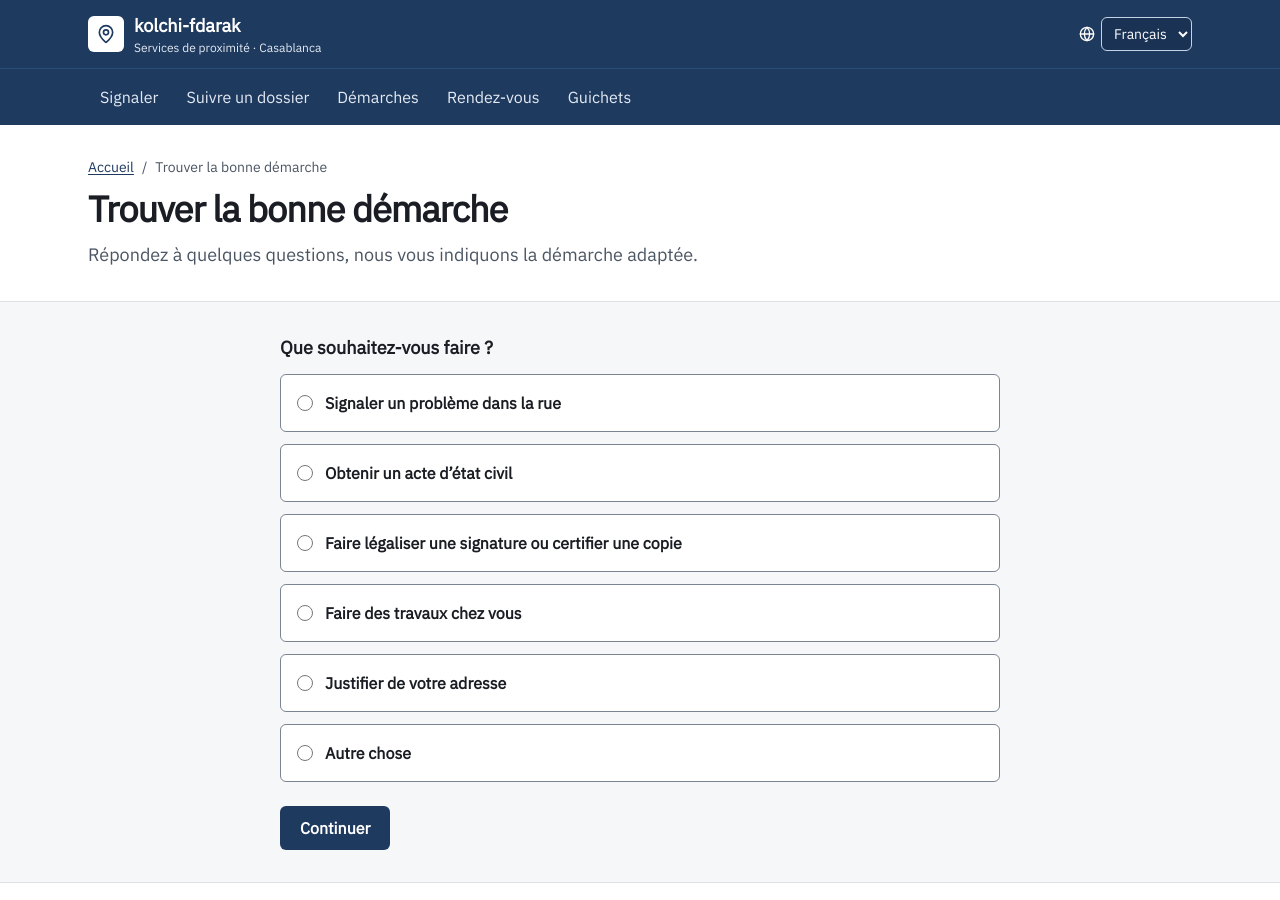
Test case: orientation › Retour revient à la question précédente, Recommencer à la première
The width and height of the screenshot is (1280, 900).
Click the radio button labelled "Faire légaliser une signature ou certifier une copie": {"x": 305, "y": 543} [297,535,313,551]
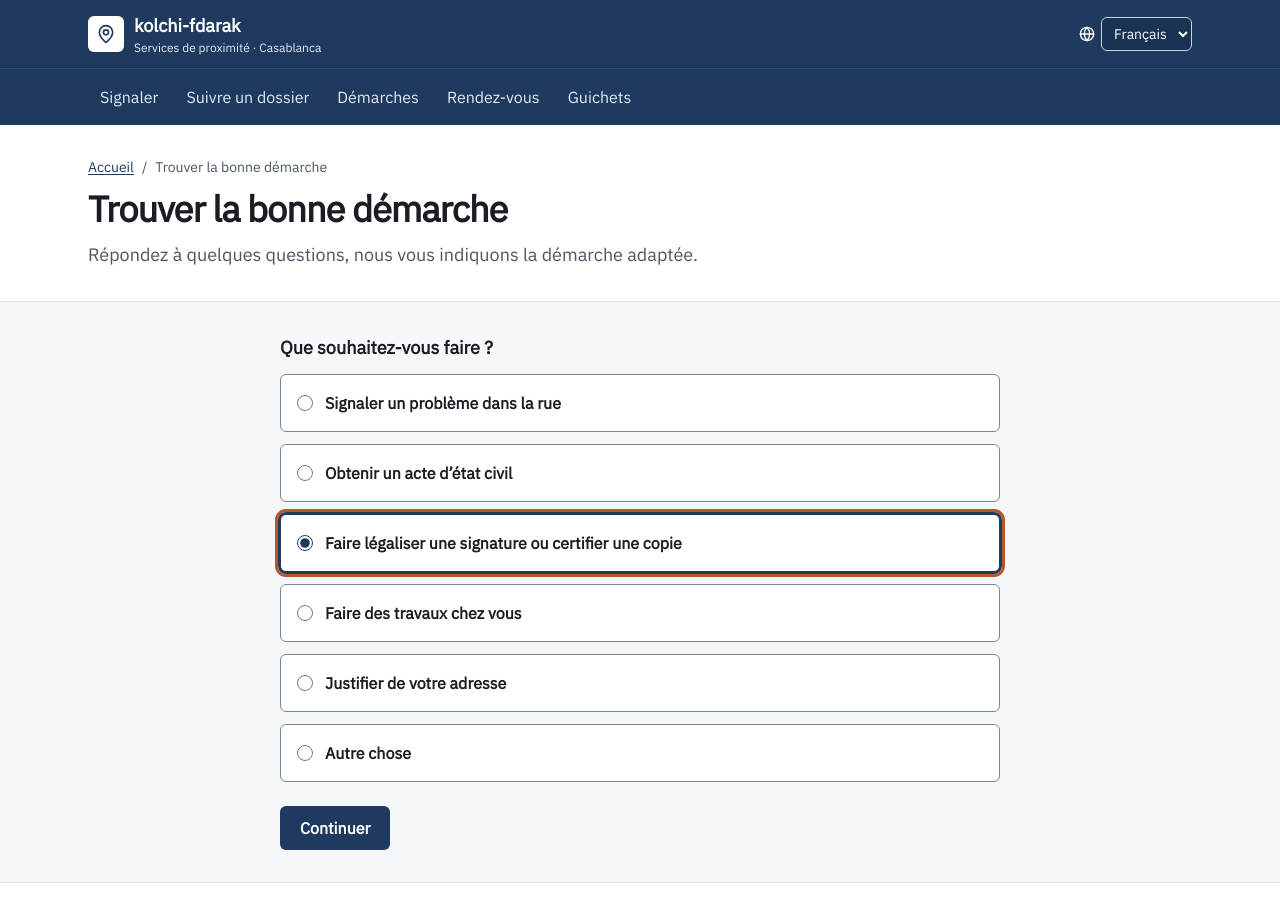
Click the button "Continuer": {"x": 335, "y": 828} [280,806,390,850]
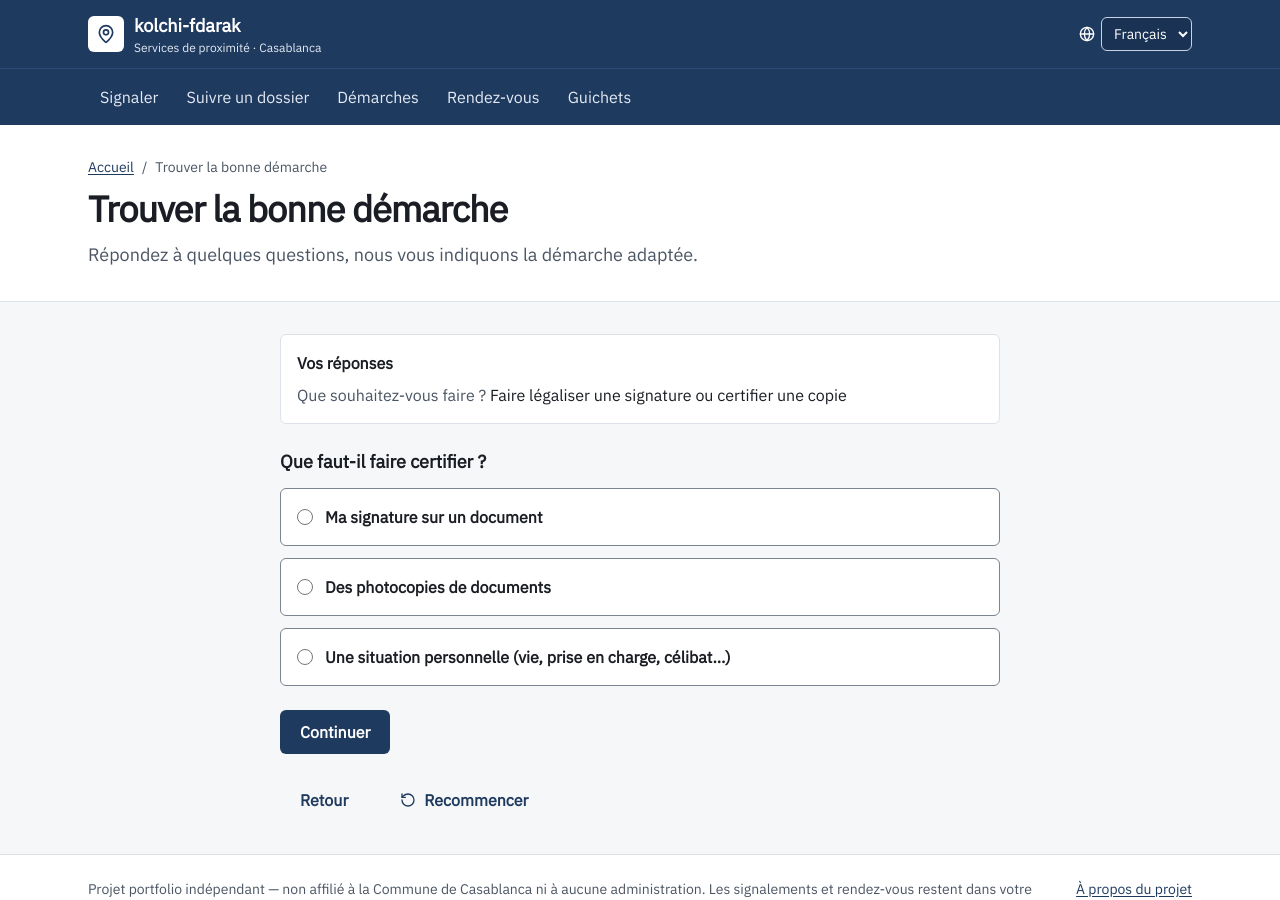
Click the radio button labelled "Des photocopies de documents": {"x": 305, "y": 587} [297,579,313,595]
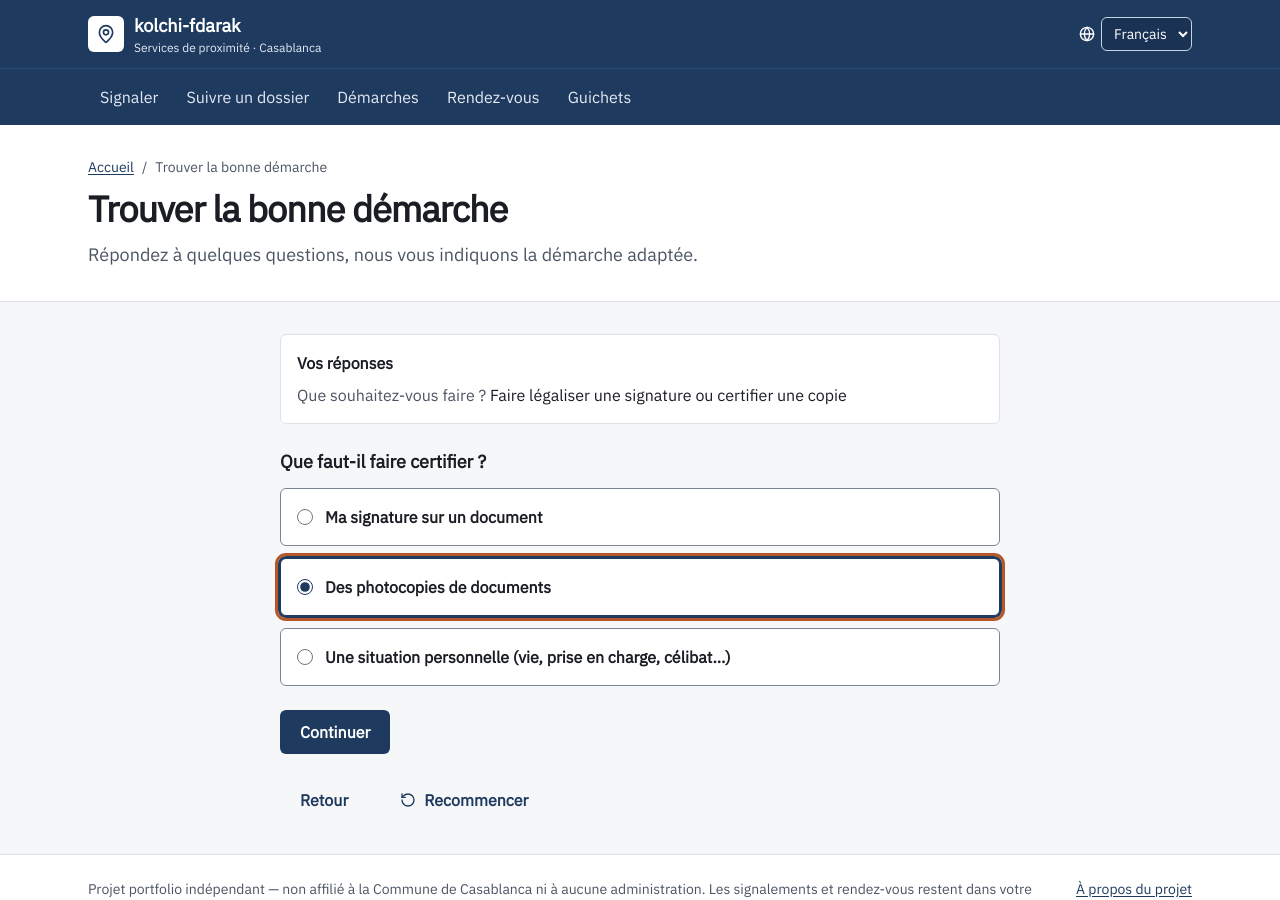
Click the button "Continuer": {"x": 335, "y": 732} [280,710,390,754]
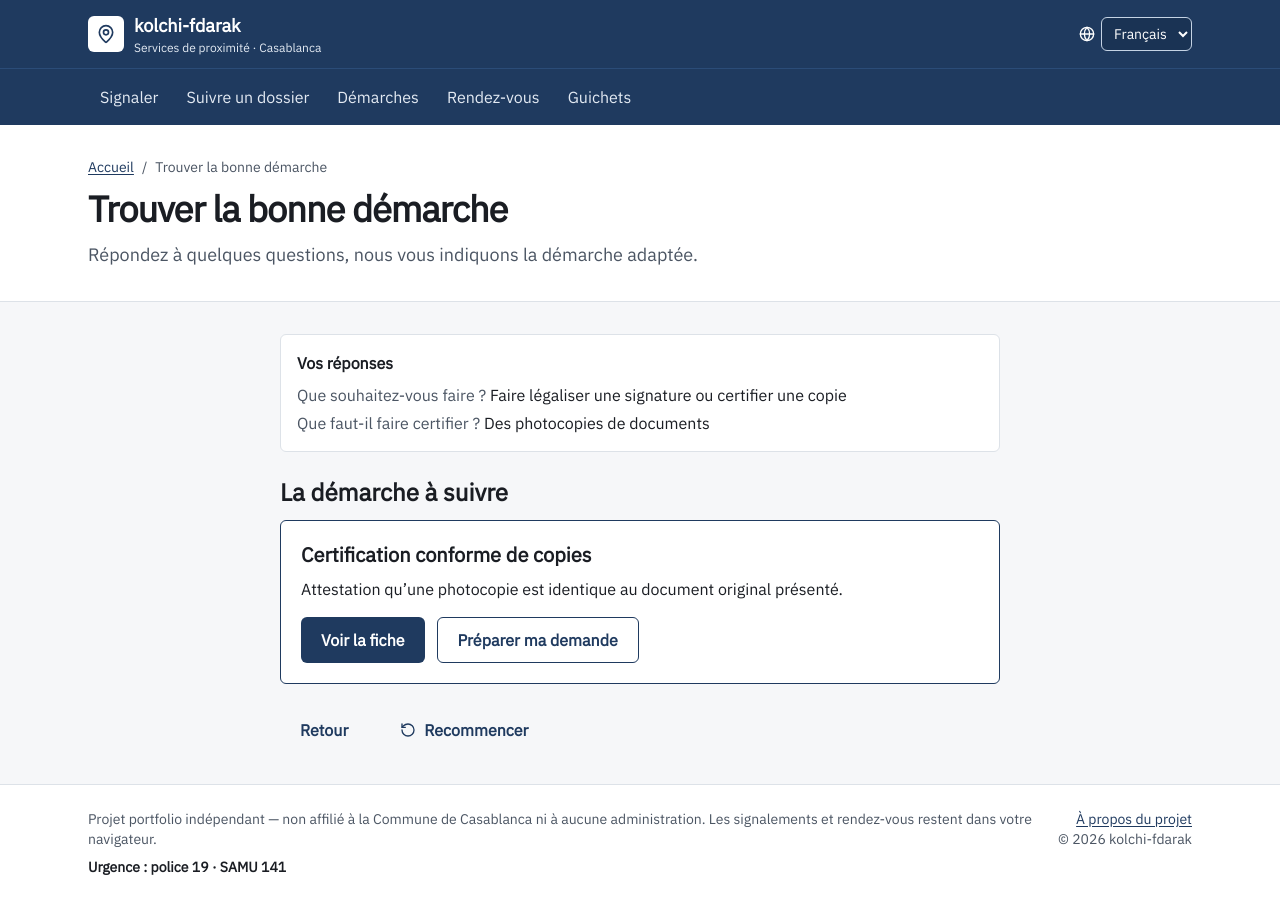
Now the heading "Certification conforme de copies" is shown, box [301,541,592,568]
Click the button "Retour": {"x": 324, "y": 730} [280,708,368,752]
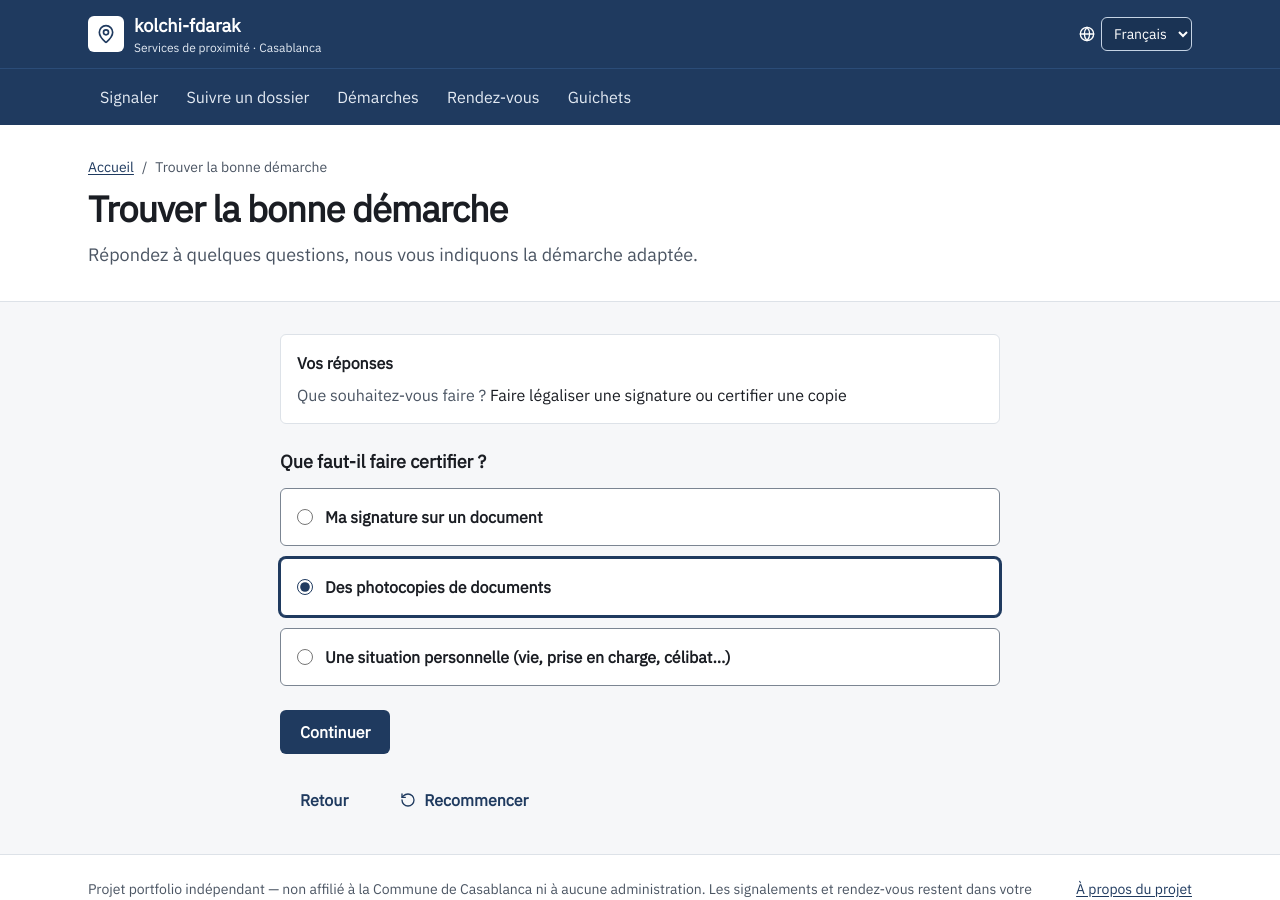
Now the element "Que faut-il faire certifier ?" is shown, box [280,448,1000,686]
Now the radio button labelled "Des photocopies de documents" is checked, box [297,579,313,595]
Click the button "Recommencer": {"x": 464, "y": 800} [380,778,548,822]
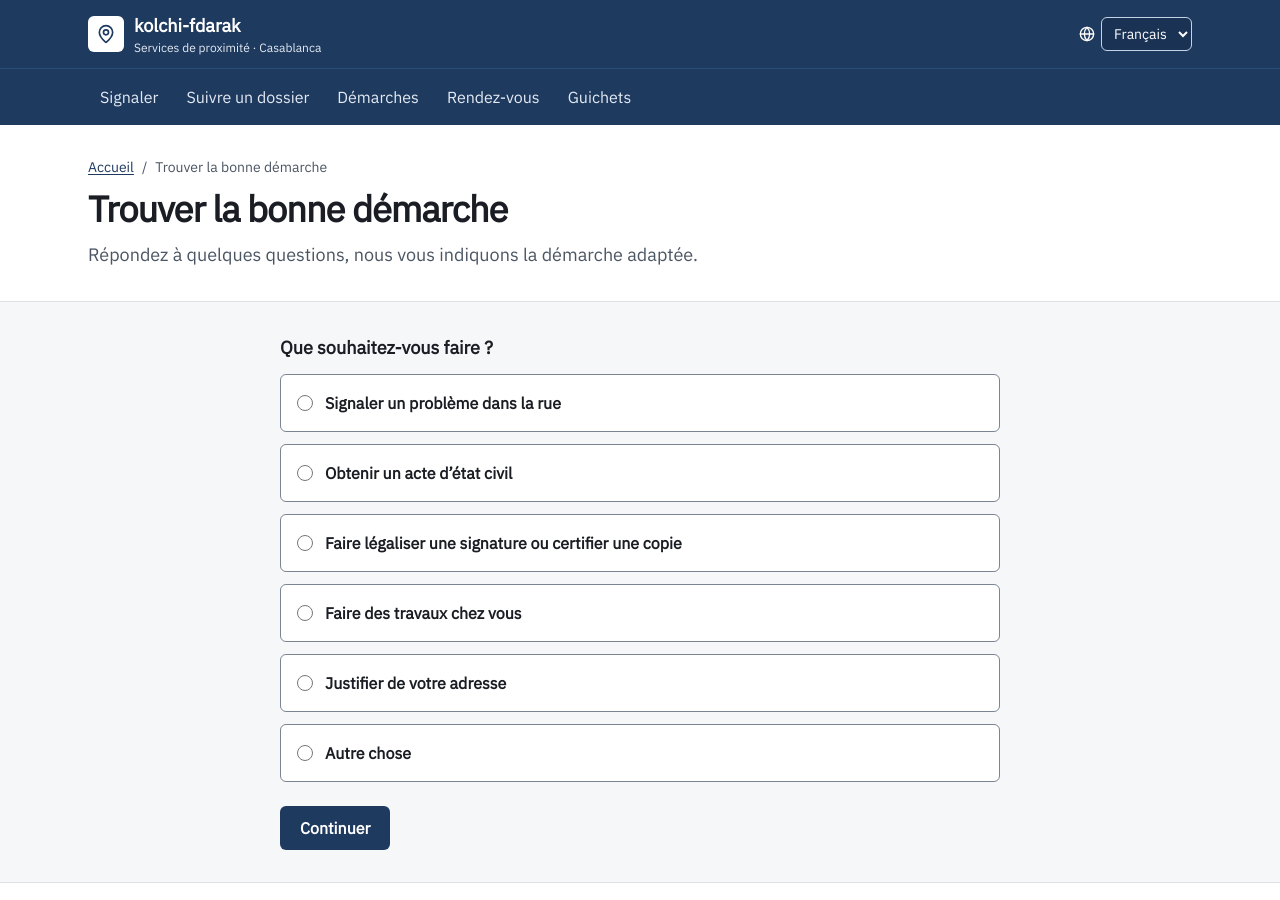
Now the element "Que souhaitez-vous faire ?" is shown, box [280,334,1000,782]
Now the heading "Vos réponses" is gone
